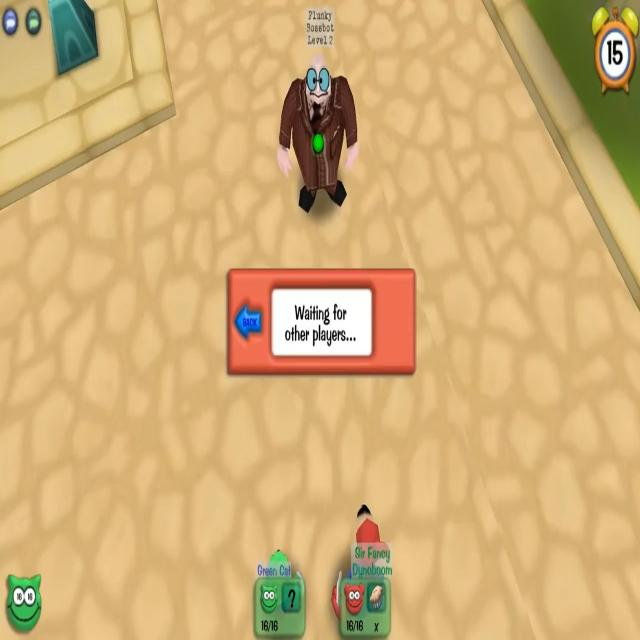flunky: (277, 3, 360, 218)
